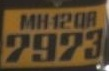character: (5, 33, 29, 63), (32, 33, 55, 61), (59, 32, 82, 60), (84, 29, 102, 59), (19, 13, 35, 30), (36, 13, 49, 30), (73, 12, 85, 29), (60, 12, 71, 29), (51, 12, 60, 28)
